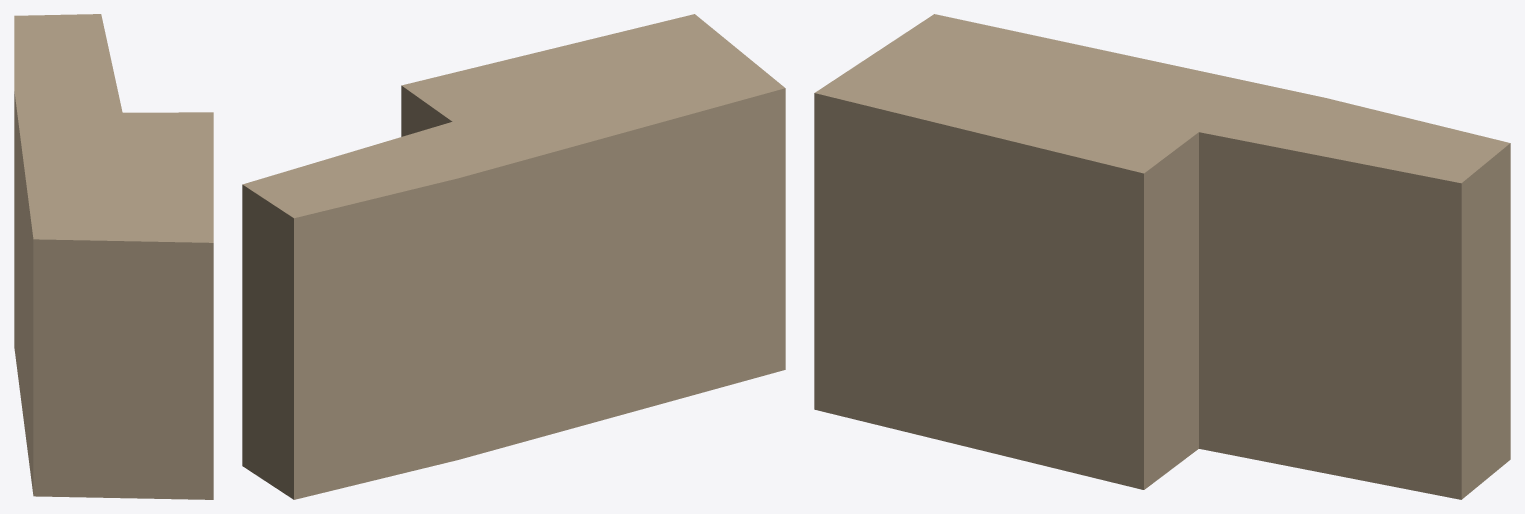
File: bld_99020415.dae
3 views of the same model, side by side, from view 1: azimuth 30°, elevation 25°; view 2: azimuth 150°, elevation 25°; view 3: azimuth 270°, elevation 25° (orthographic). The views are drawn at different scales.
Parts seen in each view (by area): view 1: bld_99020415; view 2: bld_99020415; view 3: bld_99020415.
Boxes of the visible parts, x1,y1,x2,y2 form: bld_99020415: (14, 14, 213, 499); bld_99020415: (242, 14, 785, 499); bld_99020415: (814, 14, 1510, 499).
Bounding box in the file's own units: 9.18 × 15.94 × 8.
